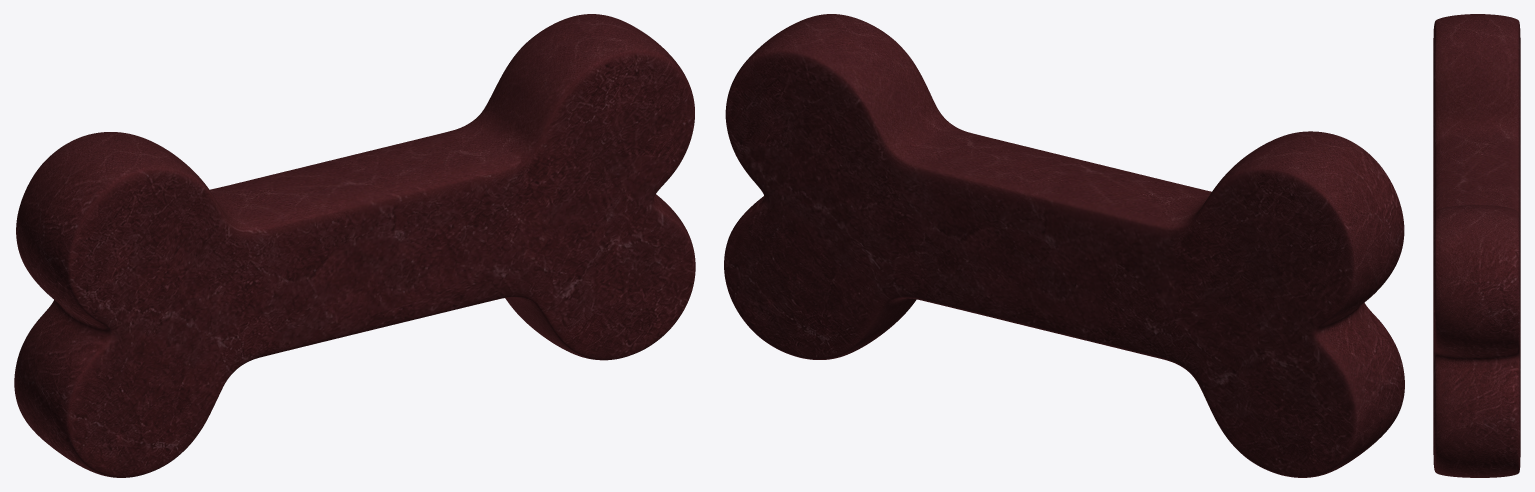
Rendered from bone.glb.
3 views of the same model, side by side, from view 1: azimuth 30°, elevation 25°; view 2: azimuth 150°, elevation 25°; view 3: azimuth 270°, elevation 25° (orthographic). The views are drawn at different scales.
Bounding box in the file's own units: 1.9 × 0.8985 × 0.2755.
Materials: 1 (1 with a texture image).
